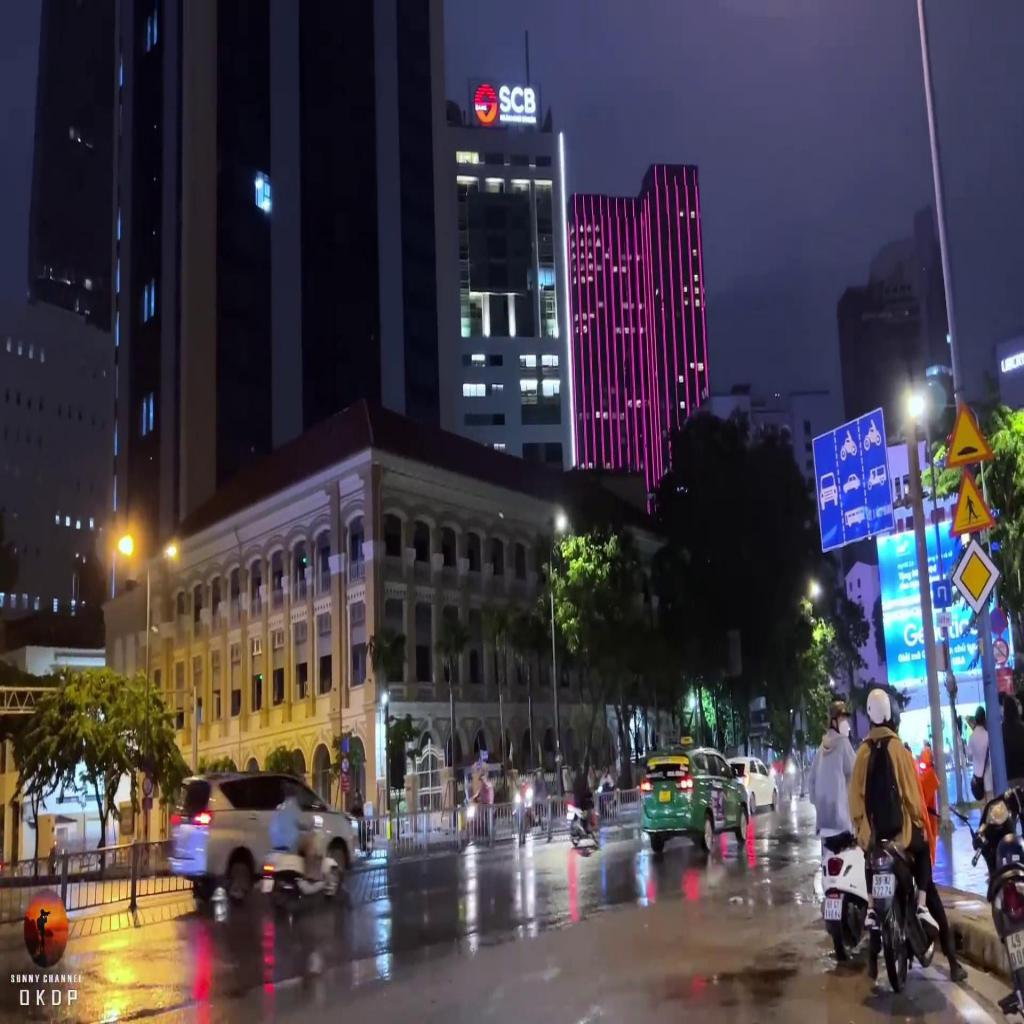chu_y_nguoi_di_bo_cat_ngang: (948, 466, 997, 540)
duong_co_song_map_mo_nhan_tao: (944, 396, 995, 470)
duong_uu_tien: (951, 537, 1000, 614)
lan_duong_cho_tung_xe_theo_vach_ke_duong: (813, 410, 895, 552)
